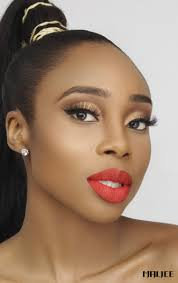person: (2, 29, 160, 226)
